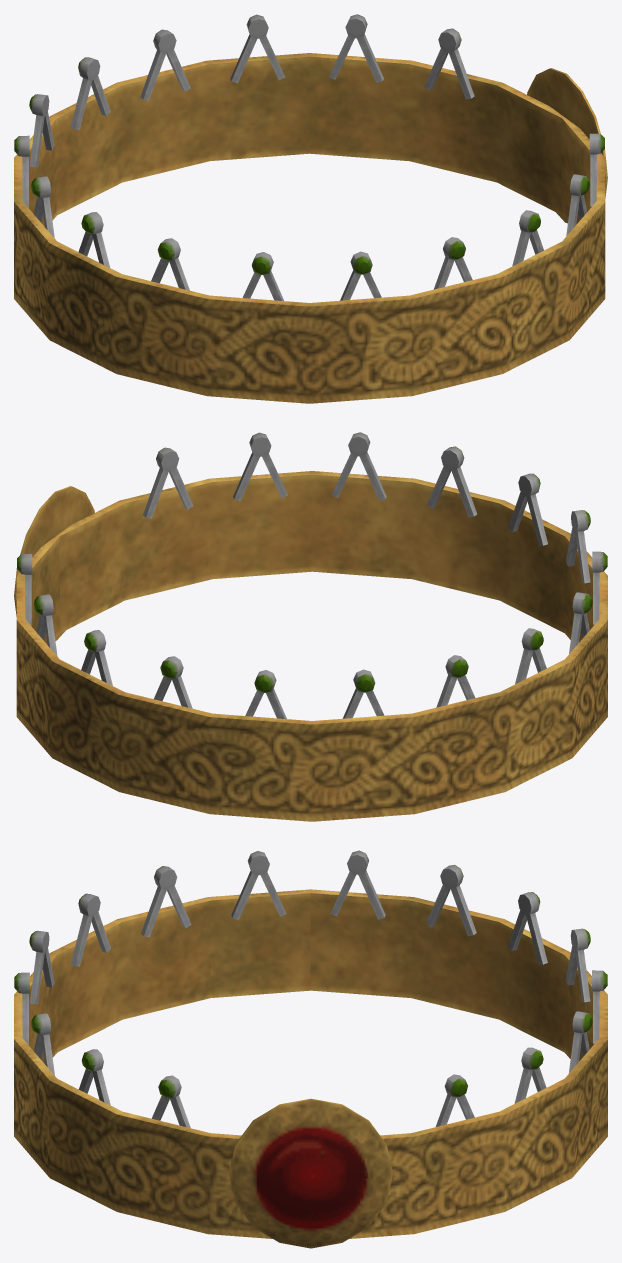
File: wear_crown.glb
3 renders of one model, top to bottom at view 1: azimuth 30°, elevation 25°; view 2: azimuth 150°, elevation 25°; view 3: azimuth 270°, elevation 25°, orthographic.
Visible parts, largest first — view 1: mesh; view 2: mesh; view 3: mesh.
Boxes of the visible parts, bbox=[...] form: mesh: bbox=[14, 14, 607, 403]; mesh: bbox=[14, 432, 607, 821]; mesh: bbox=[14, 850, 607, 1248].
Size of the model in its own units: 0.3727 by 0.1 by 0.3581.
Materials: 1 (1 with a texture image).
